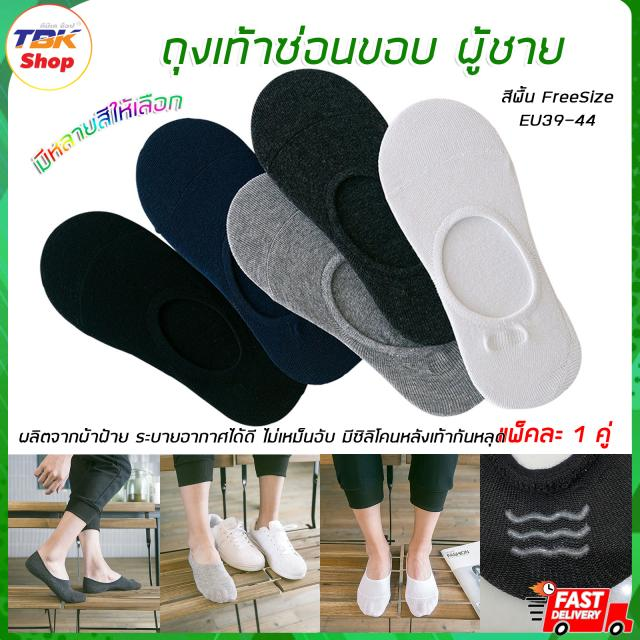sock: (377, 97, 582, 409), (225, 170, 485, 416), (135, 117, 362, 386), (39, 210, 307, 426), (249, 68, 456, 346)
